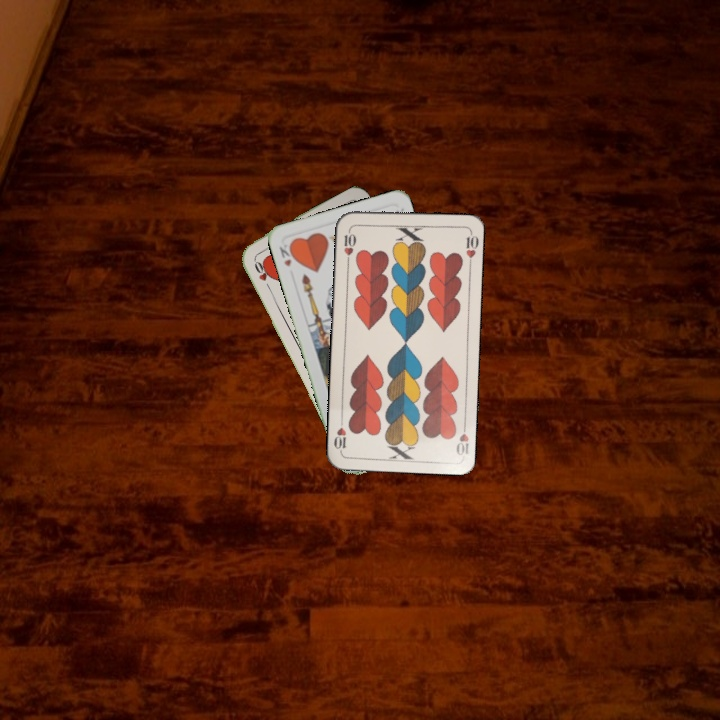H10: (452, 418, 471, 459), (340, 225, 358, 265)
HK: (275, 239, 298, 270)
HO: (249, 255, 273, 293)
